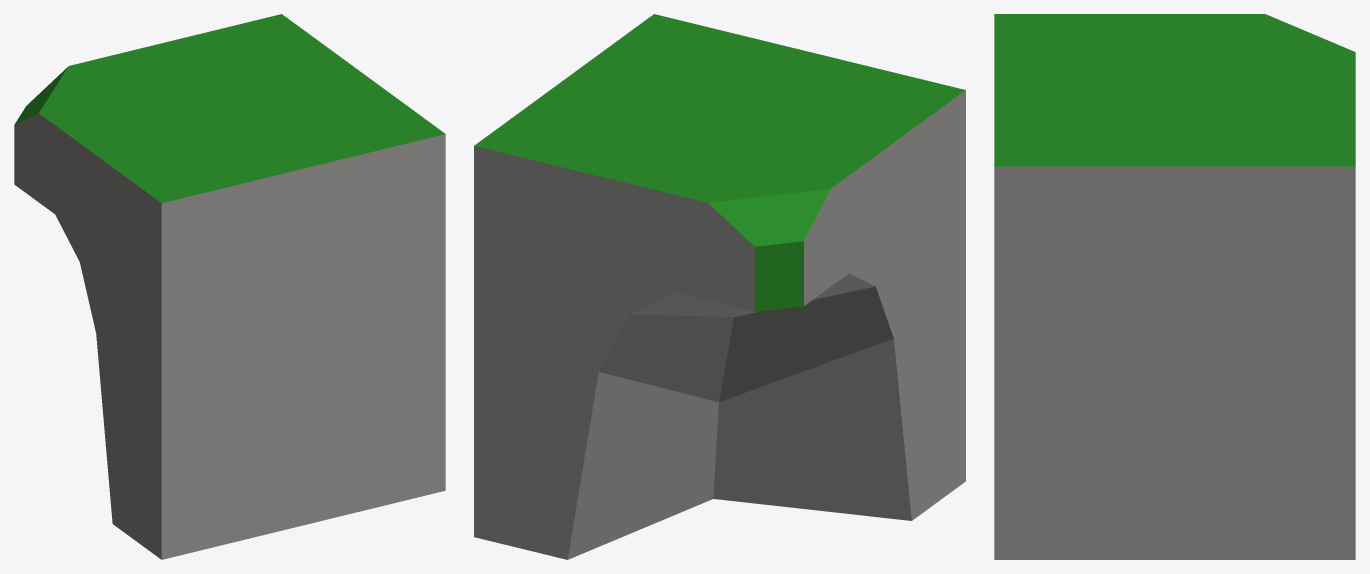
File: CliffInCorner.fbx
3 renders of one model, left to right at view 1: azimuth 30°, elevation 25°; view 2: azimuth 150°, elevation 25°; view 3: azimuth 270°, elevation 25°, orthographic. The views are drawn at different scales.
Parts seen in each view (by area): view 1: Cliff_Top_Corner_Inner_Sm_68; view 2: Cliff_Top_Corner_Inner_Sm_68; view 3: Cliff_Top_Corner_Inner_Sm_68.
Boxes of the visible parts, x1,y1,x2,y2 form: Cliff_Top_Corner_Inner_Sm_68: [14, 14, 445, 559]; Cliff_Top_Corner_Inner_Sm_68: [474, 14, 965, 559]; Cliff_Top_Corner_Inner_Sm_68: [994, 14, 1355, 559].
Size of the model in its own units: 10 by 12 by 10.
